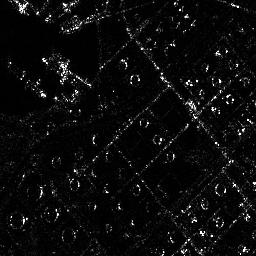ship: (5, 60, 47, 98)
